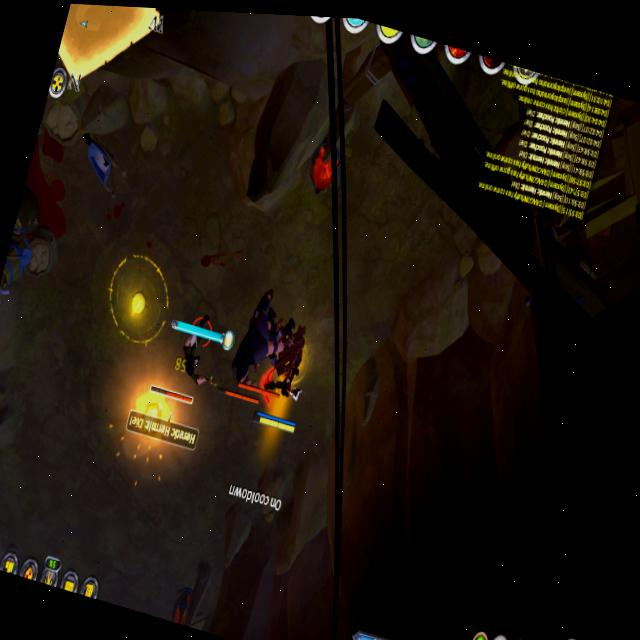ore: (215, 280, 289, 414), (147, 296, 225, 420)
red: (251, 339, 316, 443)
